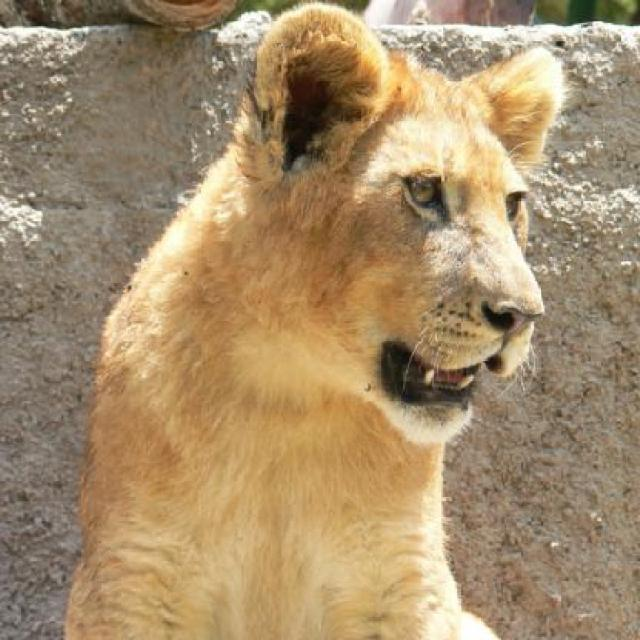Lion: (63, 3, 597, 639)
